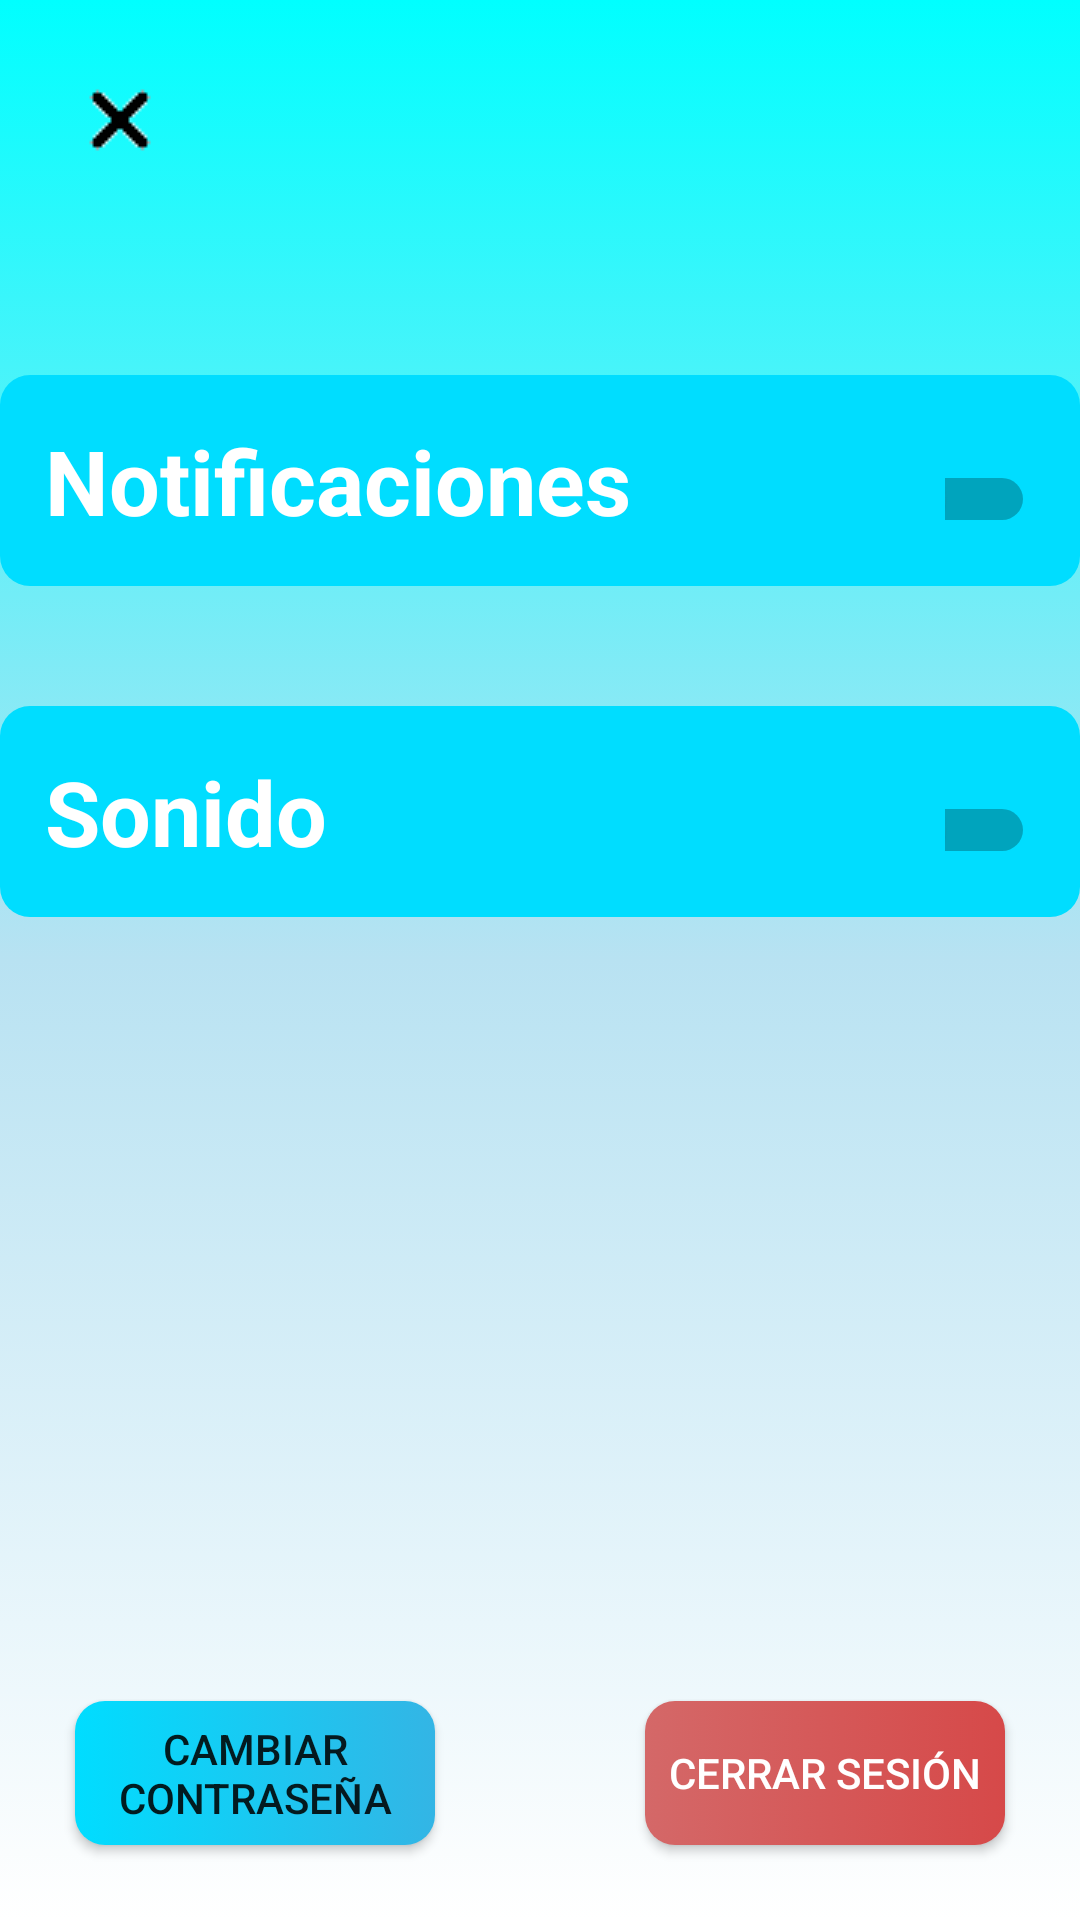

Icons on this 1080w x 1920h Android screen, each with the point to tap as [x,y]:
Return Button: [120,120]
